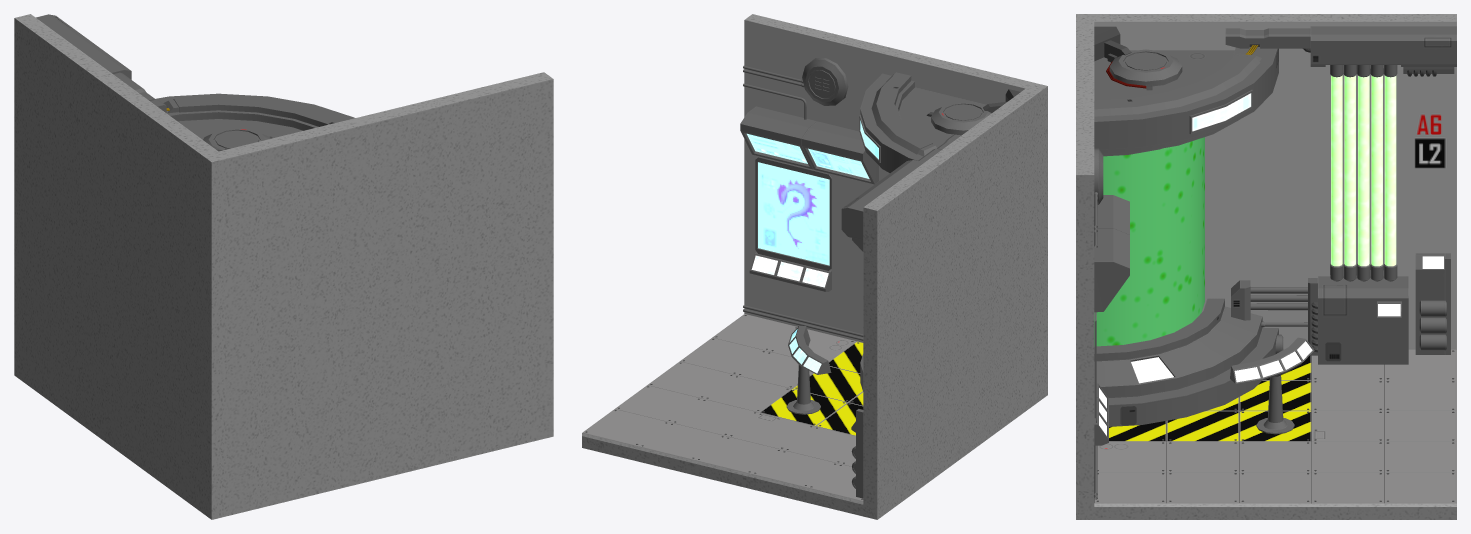
Rendered from quarto holograma.fbx.
3 renders of one model, left to right at view 1: azimuth 30°, elevation 25°; view 2: azimuth 150°, elevation 25°; view 3: azimuth 270°, elevation 25°, orthographic. The views are drawn at different scales.
Visible parts, largest first — view 1: Object_4.002, Object_10.002, Object_29, Object_34.001, Object_21; view 2: Object_4.002, Object_63, Object_5.001, Object_84, Object_78, Object_10.002, Object_29, Object_34.001, Object_79, Object_76, Object_70, Object_83 (+6 smaller); view 3: Object_5.001, Object_63, Object_4.002, Object_8.002, Object_12.002, Object_41, Object_10.002, Object_34.001, Object_43, Object_78, Object_29, Object_54 (+14 smaller).
Boxes of the visible parts, x1,y1,x2,y2 form: Object_4.002: [14, 14, 553, 519]; Object_10.002: [156, 93, 354, 139]; Object_29: [163, 96, 345, 126]; Object_34.001: [36, 14, 166, 112]; Object_21: [203, 127, 270, 150]; Object_4.002: [582, 14, 1047, 519]; Object_63: [582, 314, 863, 501]; Object_5.001: [744, 20, 1025, 342]; Object_84: [758, 162, 829, 265]; Object_78: [740, 106, 878, 184]; Object_10.002: [860, 73, 986, 172]; Object_29: [871, 72, 936, 156]; Object_34.001: [841, 134, 960, 251]; Object_79: [747, 133, 869, 178]; Object_76: [802, 58, 848, 105]; Object_70: [786, 325, 831, 414]; Object_83: [755, 157, 831, 270]; Object_5.001: [1094, 21, 1456, 349]; Object_63: [1094, 349, 1456, 503]; Object_4.002: [1076, 14, 1456, 519]; Object_8.002: [1094, 137, 1204, 346]; Object_12.002: [1094, 298, 1278, 426]; Object_41: [1331, 75, 1396, 266]; Object_10.002: [1094, 47, 1278, 156]; Object_34.001: [1225, 26, 1456, 73]; Object_43: [1308, 276, 1408, 364]; Object_78: [1094, 195, 1129, 312]; Object_29: [1094, 53, 1261, 116]; Object_54: [1415, 253, 1450, 354].
Bounding box in the file's own units: 1050 × 1050 × 1050.
14 materials, 11 textured.
